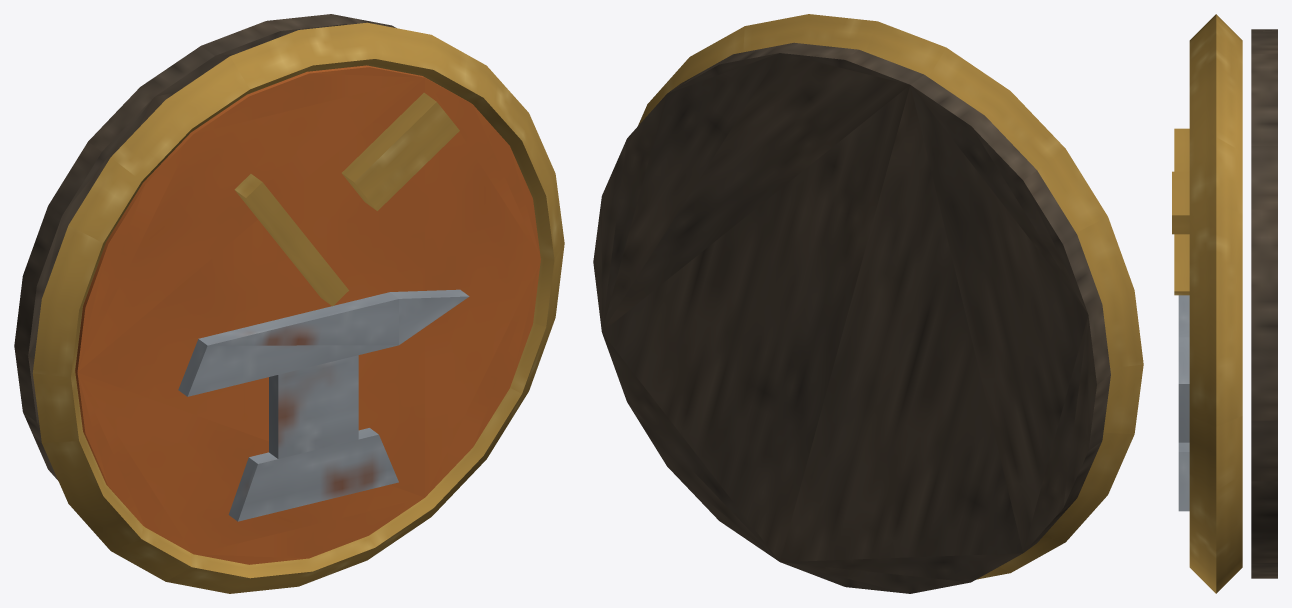
Rendered from SM_Emblem_Craftsman.fbx.
3 views of the same model, side by side, from view 1: azimuth 30°, elevation 25°; view 2: azimuth 150°, elevation 25°; view 3: azimuth 270°, elevation 25° (orthographic). The views are drawn at different scales.
Visible parts, largest first — view 1: SM_Emblem_Craftsman; view 2: SM_Emblem_Craftsman; view 3: SM_Emblem_Craftsman.
Part boxes in pixels (x1,y1,x2,y2): SM_Emblem_Craftsman: [14, 14, 564, 593]; SM_Emblem_Craftsman: [593, 14, 1143, 593]; SM_Emblem_Craftsman: [1172, 14, 1277, 593].
Bounding box in the file's own units: 2.64 × 2.64 × 0.48.
Materials: 1 (1 with a texture image).
